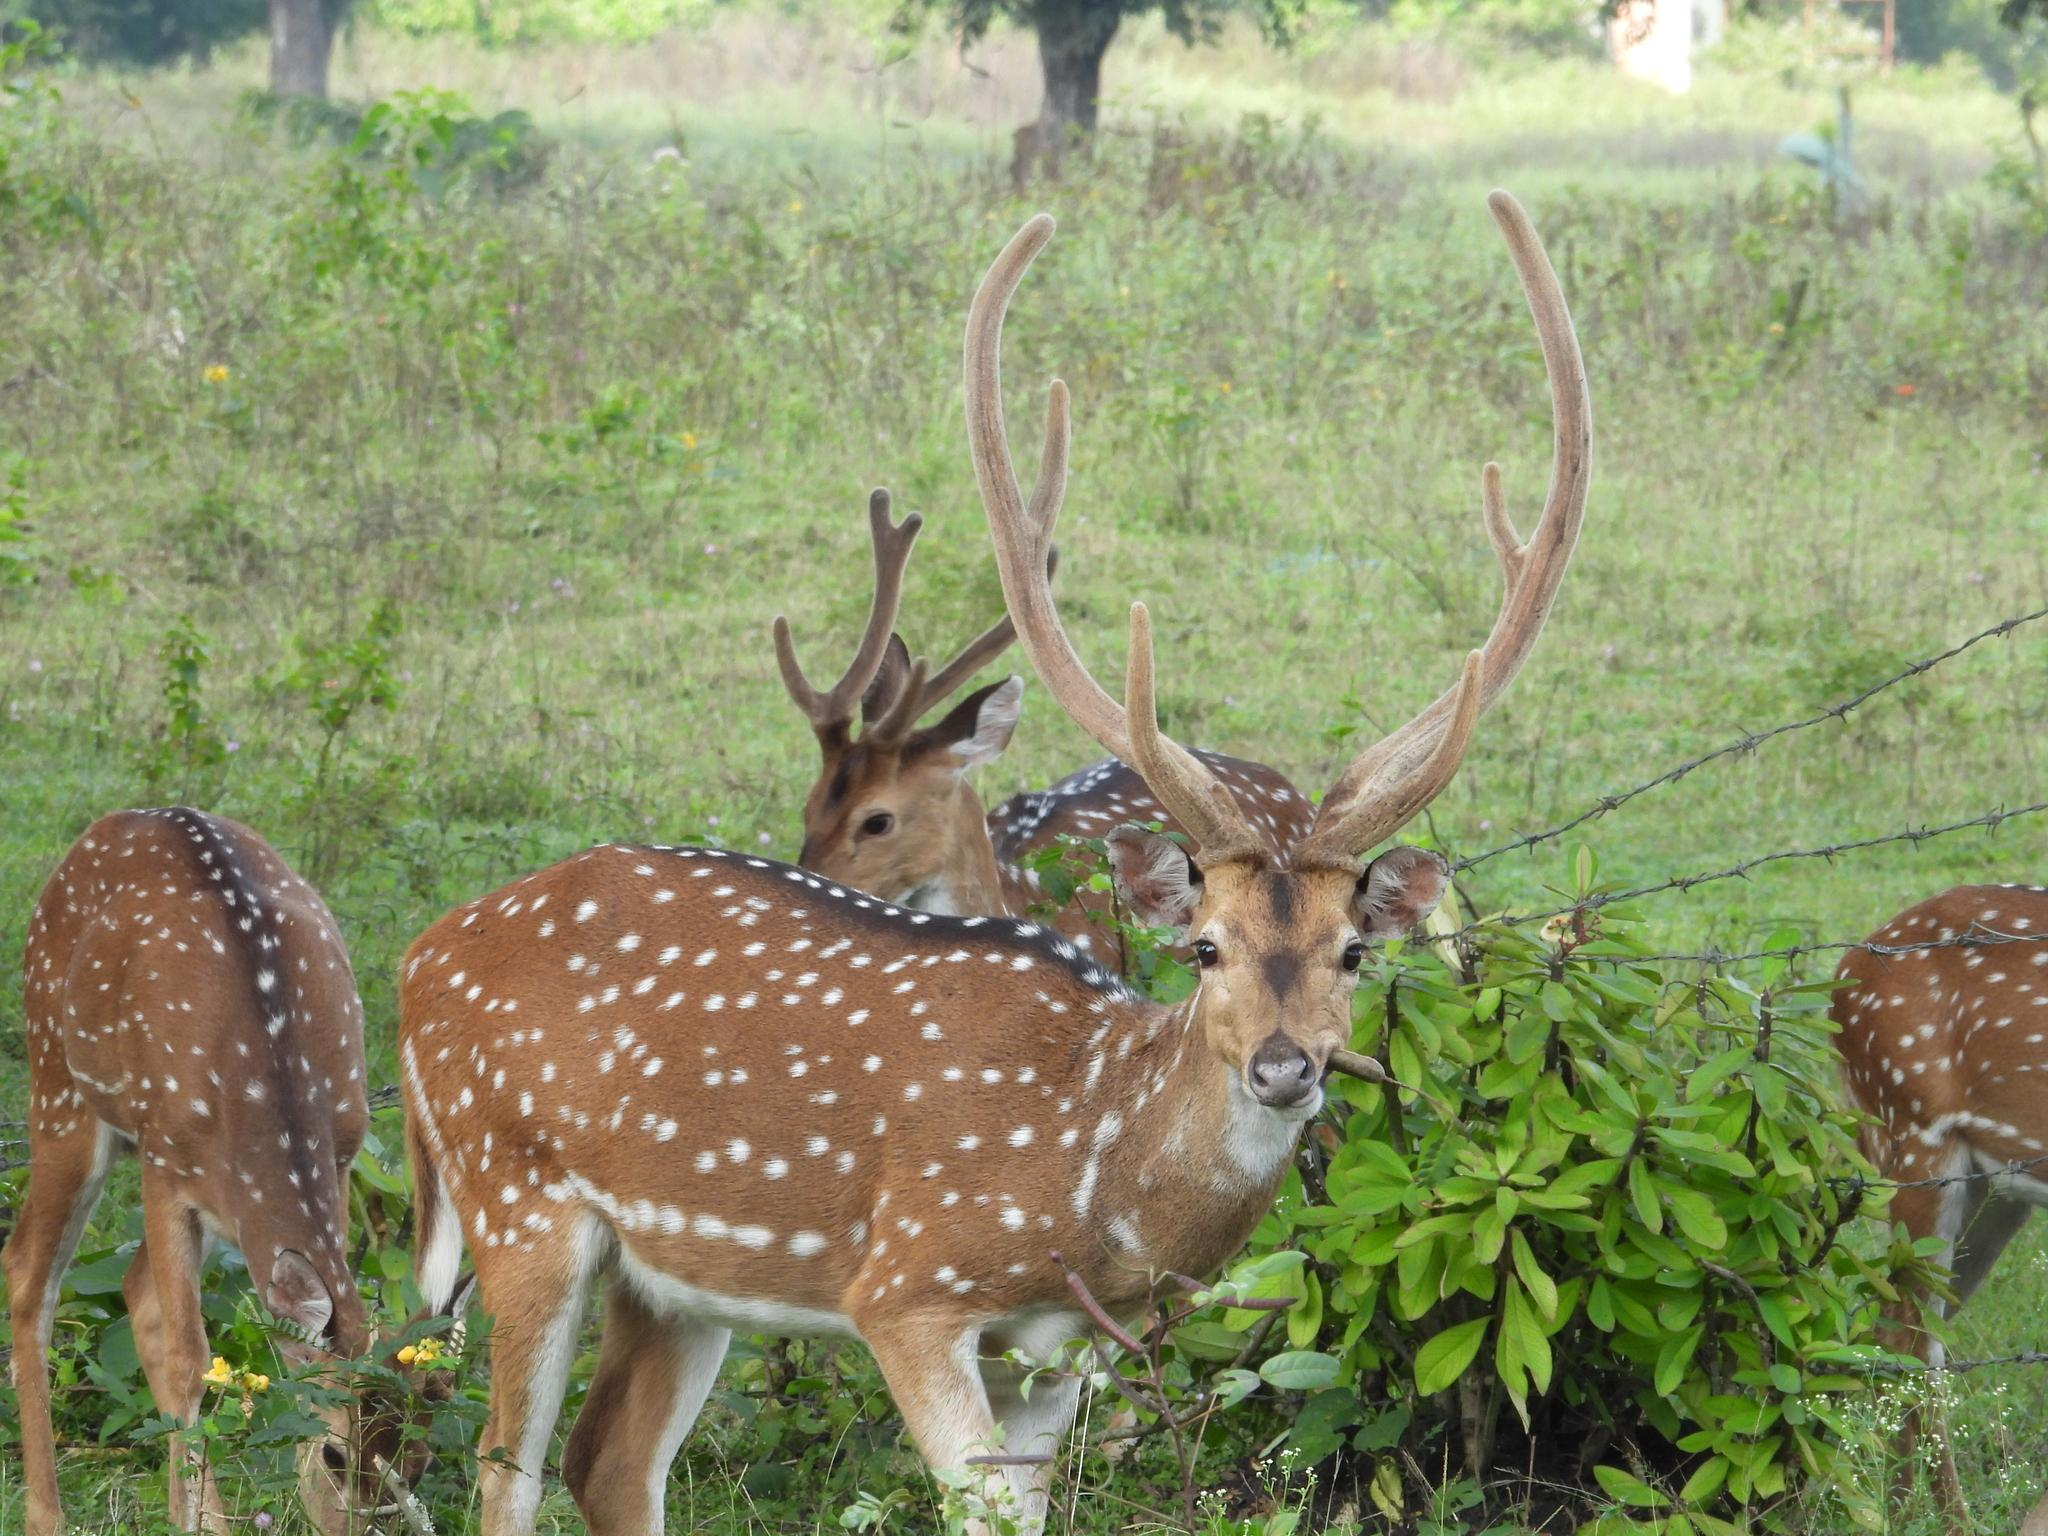Deer: (400, 190, 1590, 1534), (5, 807, 476, 1534), (774, 489, 1184, 1000), (1080, 1357, 1093, 1368)
